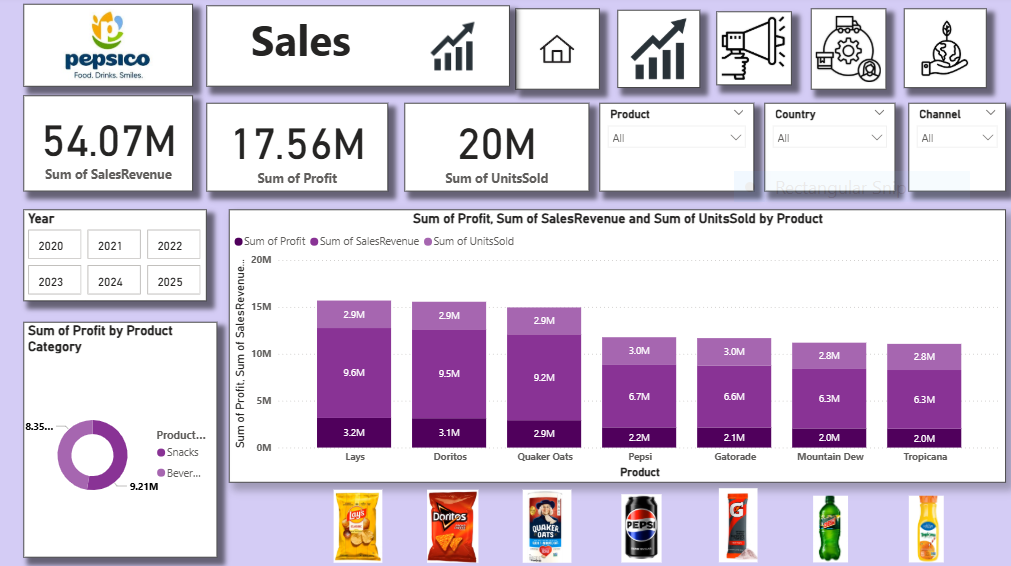

The page's visual inventory and layout, read from the dashboard file:
{"tool":"powerbi","page":{"name":"Sales","canvas":[1280,720],"ordinal":1},"visuals":[{"type":"group","id":"g1","title":"Group 1","box":[32.1,11.3,1237.8,709.1],"z":0,"group":"g3"},{"type":"image","box":[32.1,11.3,213.5,103.9],"z":0,"group":"g1"},{"type":"image","box":[476.2,22.7,181.4,83.2],"z":0},{"type":"textbox","box":[262.7,13.6,381.7,102],"z":1000,"group":"g1"},{"type":"image","box":[527.2,28.7,90.7,71.8],"z":1000,"group":"g3"},{"type":"advancedSlicerVisual","fields":{"Values":["SalesData.Date.Variation.Date Hierarchy.Year"]},"box":[32.1,270.2,230.6,115.3],"z":1000},{"type":"group","id":"g2","title":"Group 2","box":[652,17,593.4,102],"z":2000},{"type":"group","id":"g3","title":"Group 3","box":[32.1,11.3,1237.8,708.7],"z":3000},{"type":"image","box":[652,17,105.8,102],"z":3000,"group":"g2"},{"type":"image","box":[780.5,18.9,103.9,98.3],"z":4000,"group":"g2"},{"type":"image","box":[905.2,20.8,94.5,92.6],"z":5000,"group":"g2"},{"type":"image","box":[1024.3,17,94.5,102],"z":6000,"group":"g2"},{"type":"image","box":[1141.5,17,103.9,100.2],"z":7000,"group":"g2"},{"type":"card","fields":{"Values":["Sum(SalesData.SalesRevenue)"]},"box":[32.1,126.8,213.5,120.9],"z":8000,"group":"g1"},{"type":"card","fields":{"Values":["Sum(SalesData.Profit)"]},"box":[262.7,136.5,228.7,111.5],"z":9000,"group":"g1"},{"type":"card","fields":{"Values":["Sum(SalesData.UnitsSold)"]},"box":[512.1,136.5,232.4,111.5],"z":10000,"group":"g1"},{"type":"slicer","fields":{"Values":["SalesData.Channel"]},"box":[1147.1,136.5,122.8,111.5],"z":12000,"group":"g1"},{"type":"slicer","fields":{"Values":["SalesData.Country"]},"box":[965.7,136.5,164.4,111.5],"z":13000,"group":"g1"},{"type":"slicer","fields":{"Values":["SalesData.Product"]},"box":[757.8,136.5,194.6,111.5],"z":14000,"group":"g1"},{"type":"columnChart","fields":{"Category":["SalesData.Product"],"Y":["Sum(SalesData.Profit)","Sum(SalesData.SalesRevenue)","Sum(SalesData.UnitsSold)"]},"box":[291,270.2,978.9,343.9],"z":15000,"group":"g1"},{"type":"image","box":[396.8,618.4,113.4,102],"z":16000,"group":"g1"},{"type":"image","box":[644.4,618.4,94.5,102],"z":17000,"group":"g1"},{"type":"image","box":[515.9,618.4,113.4,102],"z":18000,"group":"g1"},{"type":"image","box":[765.3,624,90.7,96.4],"z":19000,"group":"g1"},{"type":"image","box":[888.2,616.5,88.8,103.9],"z":20000,"group":"g1"},{"type":"image","box":[1001.6,625.9,94.5,94.5],"z":21000,"group":"g1"},{"type":"image","box":[1116.8,625.9,105.8,94.5],"z":22000,"group":"g1"},{"type":"donutChart","title":"Sum of Profit by Product Category","fields":{"Category":["SalesData.ProductCategory"],"Y":["Sum(SalesData.Profit)"]},"box":[32.1,411.9,243.8,296.7],"z":23000,"group":"g1"}]}

Visuals, with their boxes in screenshot pixels (x1, y1, x2, y2), scaled from the page's 1280x720 canvas onto the 1011x566 screenshot:
"Group 1" group: {"left": 25, "top": 9, "right": 1003, "bottom": 565}
image: {"left": 25, "top": 9, "right": 194, "bottom": 91}
image: {"left": 376, "top": 18, "right": 519, "bottom": 83}
textbox: {"left": 207, "top": 11, "right": 509, "bottom": 91}
image: {"left": 416, "top": 23, "right": 488, "bottom": 79}
advancedSlicerVisual - SalesData.Date.Variation.Date Hierarchy.Year: {"left": 25, "top": 212, "right": 207, "bottom": 303}
"Group 2" group: {"left": 515, "top": 13, "right": 984, "bottom": 94}
"Group 3" group: {"left": 25, "top": 9, "right": 1003, "bottom": 565}
image: {"left": 515, "top": 13, "right": 599, "bottom": 94}
image: {"left": 616, "top": 15, "right": 699, "bottom": 92}
image: {"left": 715, "top": 16, "right": 790, "bottom": 89}
image: {"left": 809, "top": 13, "right": 884, "bottom": 94}
image: {"left": 902, "top": 13, "right": 984, "bottom": 92}
card - Sum(SalesData.SalesRevenue): {"left": 25, "top": 100, "right": 194, "bottom": 195}
card - Sum(SalesData.Profit): {"left": 207, "top": 107, "right": 388, "bottom": 195}
card - Sum(SalesData.UnitsSold): {"left": 404, "top": 107, "right": 588, "bottom": 195}
slicer - SalesData.Channel: {"left": 906, "top": 107, "right": 1003, "bottom": 195}
slicer - SalesData.Country: {"left": 763, "top": 107, "right": 893, "bottom": 195}
slicer - SalesData.Product: {"left": 599, "top": 107, "right": 752, "bottom": 195}
columnChart - SalesData.Product x Sum(SalesData.Profit): {"left": 230, "top": 212, "right": 1003, "bottom": 483}
image: {"left": 313, "top": 486, "right": 403, "bottom": 565}
image: {"left": 509, "top": 486, "right": 584, "bottom": 565}
image: {"left": 407, "top": 486, "right": 497, "bottom": 565}
image: {"left": 604, "top": 491, "right": 676, "bottom": 565}
image: {"left": 702, "top": 485, "right": 772, "bottom": 565}
image: {"left": 791, "top": 492, "right": 866, "bottom": 565}
image: {"left": 882, "top": 492, "right": 966, "bottom": 565}
"Sum of Profit by Product Category" donutChart: {"left": 25, "top": 324, "right": 218, "bottom": 557}
